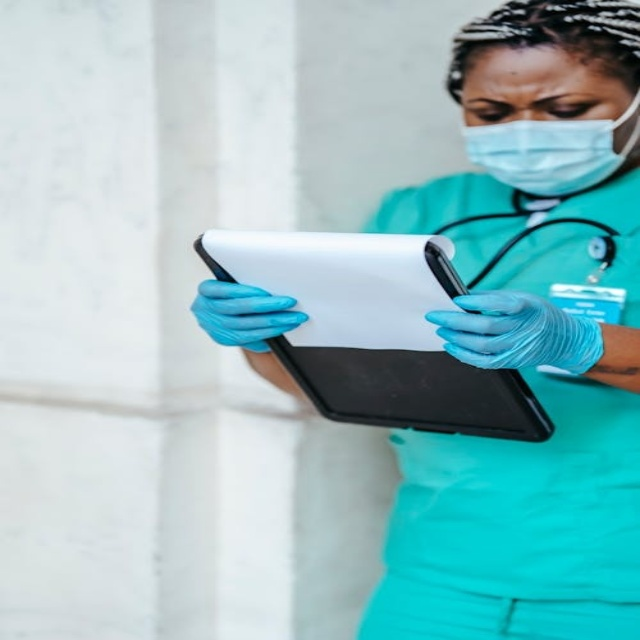Guantes: (427, 289, 603, 376), (192, 279, 308, 353)
Mascara: (453, 113, 632, 195)
Sin_gafas: (545, 103, 594, 119), (472, 106, 511, 123)
